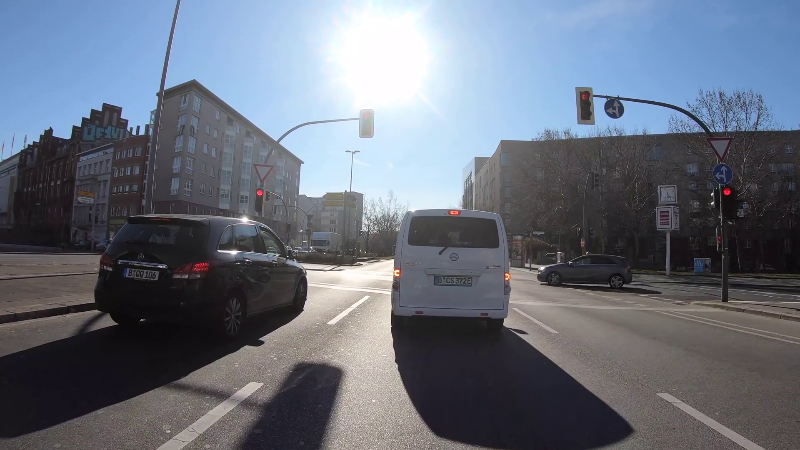Plate: (430, 273, 476, 289), (121, 267, 161, 284)
